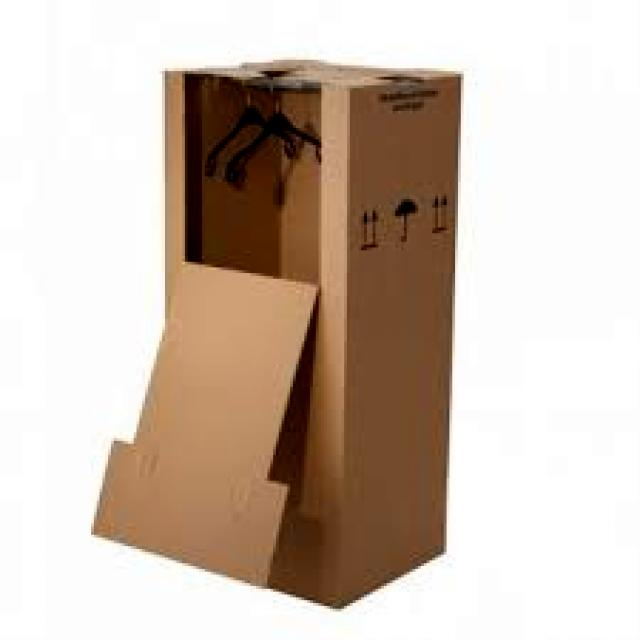Cardboard: (154, 62, 446, 580)
